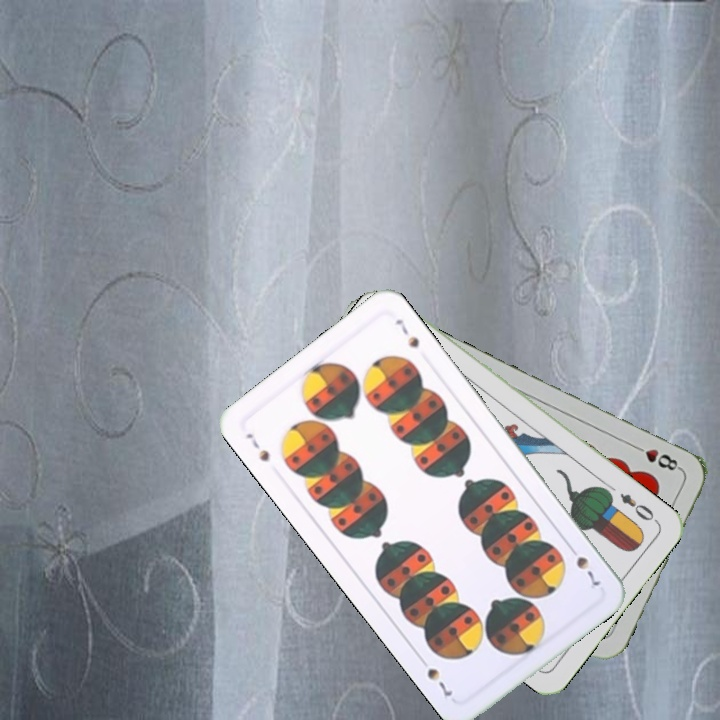EO: (615, 489, 661, 525)
H8: (628, 441, 684, 474)
S7: (564, 540, 602, 589), (241, 429, 272, 464)
